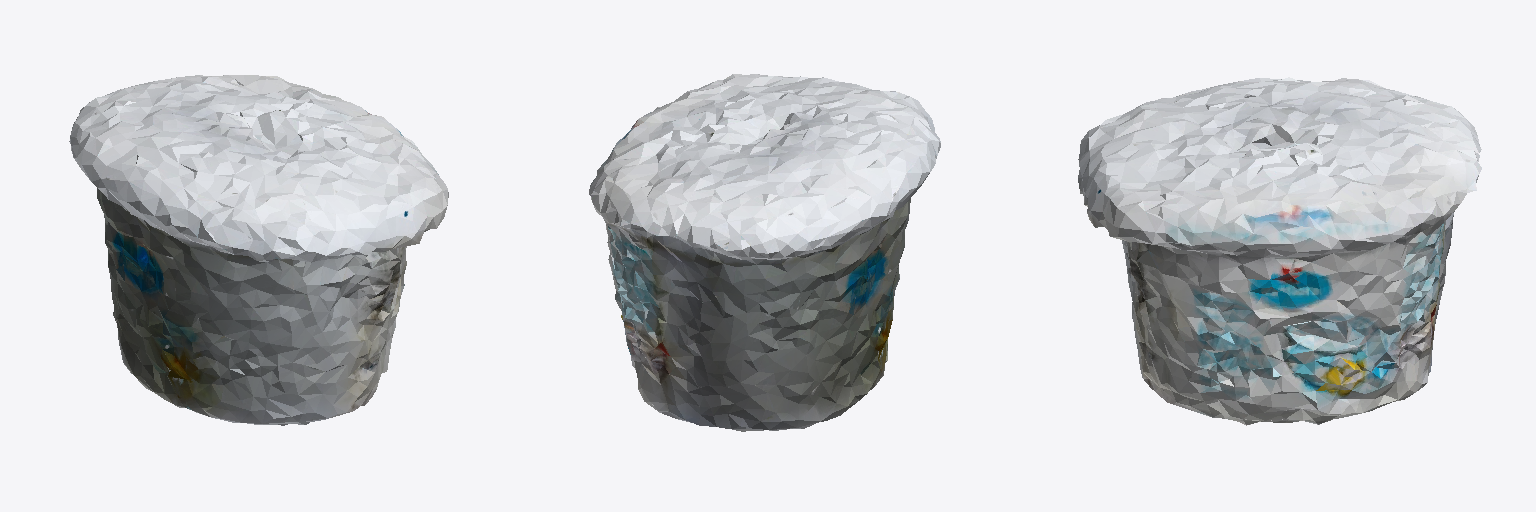
3 views of the same model, side by side, from view 1: azimuth 30°, elevation 25°; view 2: azimuth 150°, elevation 25°; view 3: azimuth 270°, elevation 25° (orthographic).
Visible parts, largest first — view 1: model; view 2: model; view 3: model.
Part boxes in pixels (bbox=[...]): model: bbox=[69, 75, 448, 425]; model: bbox=[589, 74, 940, 431]; model: bbox=[1078, 77, 1481, 425].
Size of the model in its own units: 0.8697 by 0.7745 by 1.08.
1 materials, 1 textured.